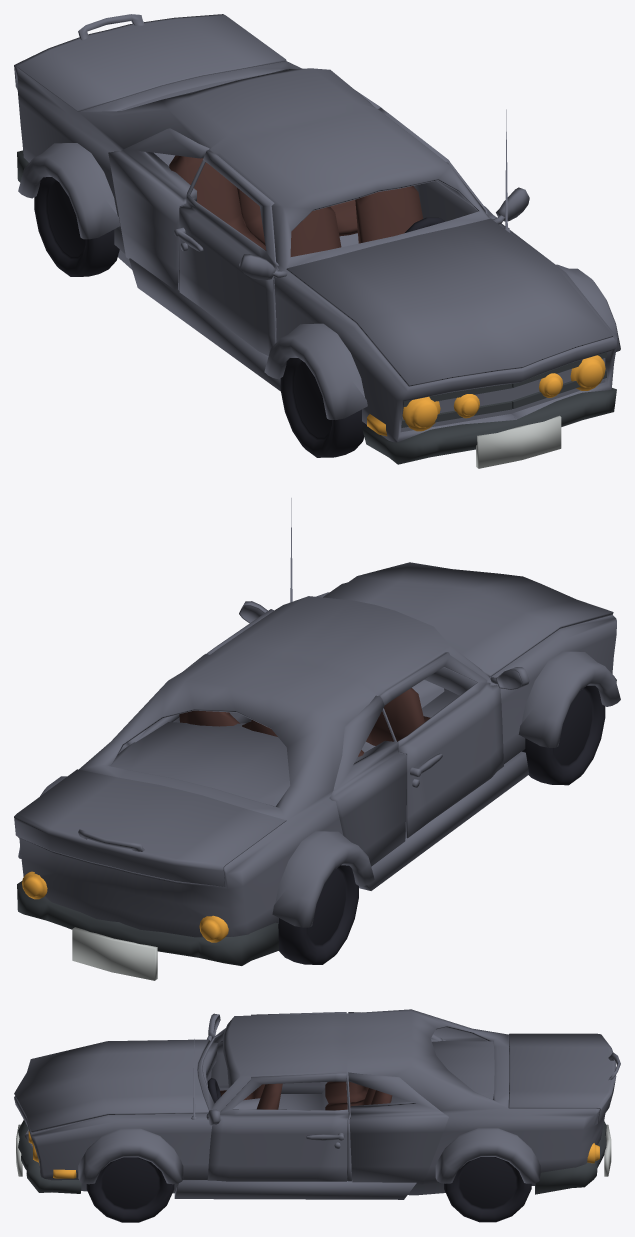
File: Carro2.fbx
3 views of the same model, one above another, from view 1: azimuth 30°, elevation 25°; view 2: azimuth 150°, elevation 25°; view 3: azimuth 270°, elevation 25° (orthographic). The views are drawn at different scales.
Parts seen in each view (by area): view 1: carro.006, carro.003, carro.004, carro.001, carro.002, Cylinder.002, Cube.006, Cylinder.001, Cube.001, Cylinder.007, Cylinder.006, Cube.005 (+3 smaller); view 2: carro.006, carro.004, carro.003, carro.001, carro.002, Cube.003, Cylinder.001, Cylinder.002, Cylinder.006, Cylinder.007, Cube.004, Cube.001 (+4 smaller); view 3: carro.006, carro.003, carro.001, carro.002, carro.004, Cylinder.007, Cylinder.006, Cylinder.002, Cylinder.001, Cube.003, Cube.005, Cube.006 (+4 smaller).
Boxes of the visible parts, bbox=[...] form: carro.006: bbox=[15, 61, 616, 442]; carro.003: bbox=[286, 218, 613, 386]; carro.004: bbox=[14, 14, 286, 111]; carro.001: bbox=[174, 108, 496, 355]; carro.002: bbox=[108, 90, 382, 289]; Cylinder.002: bbox=[264, 264, 620, 419]; Cube.006: bbox=[362, 388, 616, 464]; Cylinder.001: bbox=[18, 143, 120, 239]; Cube.001: bbox=[290, 186, 423, 256]; Cylinder.007: bbox=[280, 358, 366, 457]; Cylinder.006: bbox=[34, 177, 119, 276]; Cube.005: bbox=[169, 155, 357, 250]; carro.006: bbox=[17, 582, 616, 937]; carro.004: bbox=[14, 769, 286, 886]; carro.003: bbox=[326, 562, 613, 677]; carro.001: bbox=[206, 609, 503, 838]; carro.002: bbox=[118, 654, 407, 866]; Cube.003: bbox=[17, 881, 279, 965]; Cylinder.001: bbox=[18, 776, 374, 927]; Cylinder.002: bbox=[316, 592, 620, 747]; Cylinder.006: bbox=[278, 865, 358, 964]; Cylinder.007: bbox=[522, 685, 605, 785]; Cube.004: bbox=[72, 927, 157, 980]; Cube.001: bbox=[366, 688, 430, 745]; carro.006: bbox=[14, 1009, 605, 1199]; carro.003: bbox=[14, 1039, 209, 1132]; carro.001: bbox=[207, 1012, 348, 1181]; carro.002: bbox=[348, 1012, 448, 1184]; carro.004: bbox=[508, 1033, 620, 1123]; Cylinder.007: bbox=[86, 1157, 174, 1222]; Cylinder.006: bbox=[444, 1157, 531, 1222]; Cylinder.002: bbox=[78, 1128, 183, 1184]; Cylinder.001: bbox=[435, 1128, 540, 1183]; Cube.003: bbox=[535, 1121, 606, 1194]; Cube.005: bbox=[325, 1081, 392, 1139]; Cube.006: bbox=[18, 1120, 81, 1193].
Bounding box in the file's own units: 239 × 204 × 596.
